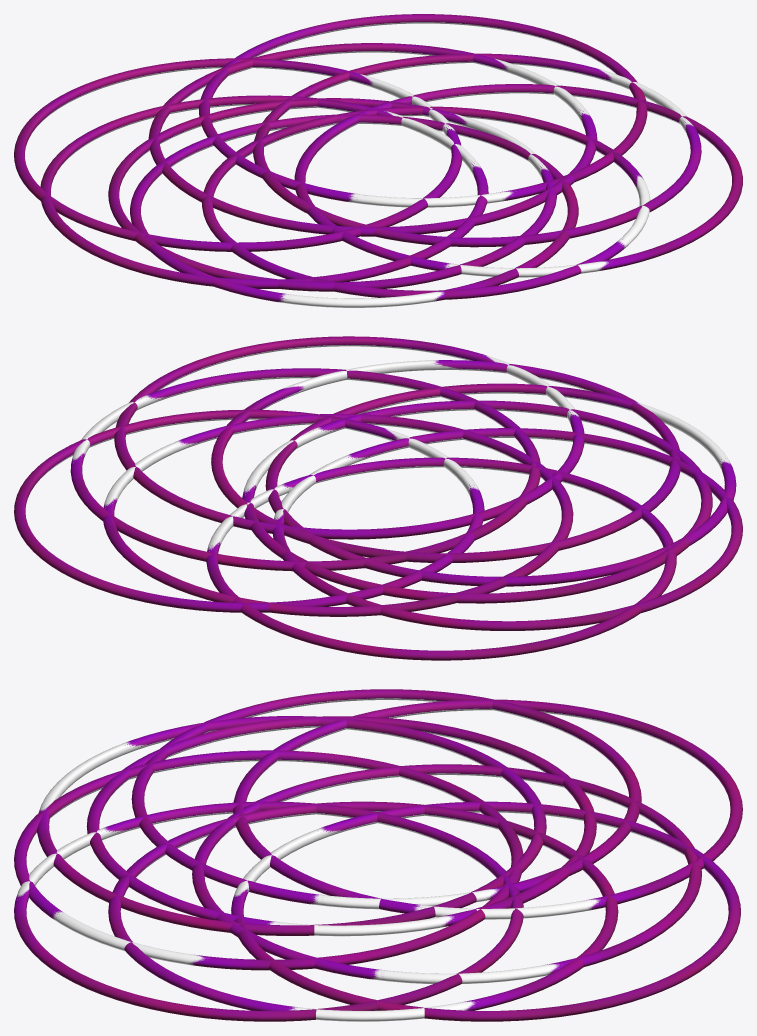
File: Onion.obj
The picture shows the model from 3 angles, top to bottom: view 1: azimuth 30°, elevation 25°; view 2: azimuth 150°, elevation 25°; view 3: azimuth 270°, elevation 25°; orthographic projection. The views are drawn at different scales.
Parts seen in each view (by area): view 1: pasted__polySurface39 group13; view 2: pasted__polySurface39 group13; view 3: pasted__polySurface39 group13.
Boxes of the visible parts, <box> form: pasted__polySurface39 group13: <box>14,14,742,307</box>; pasted__polySurface39 group13: <box>14,336,742,660</box>; pasted__polySurface39 group13: <box>14,689,742,1021</box>.
Size of the model in its own units: 2.02 by 0.0266 by 1.9.
9 materials, 9 textured.
